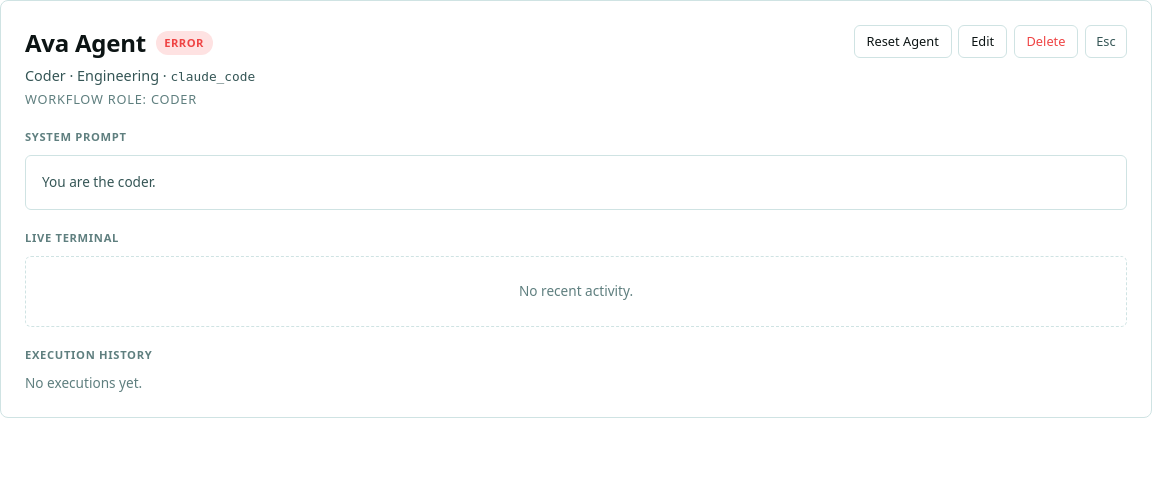
Test: EmployeeDetail stop and reset actions › shows a visible error when reset conflicts
Step 1. Click the button "Reset Agent" → x=903, y=41, box 854,25 -> 952,58
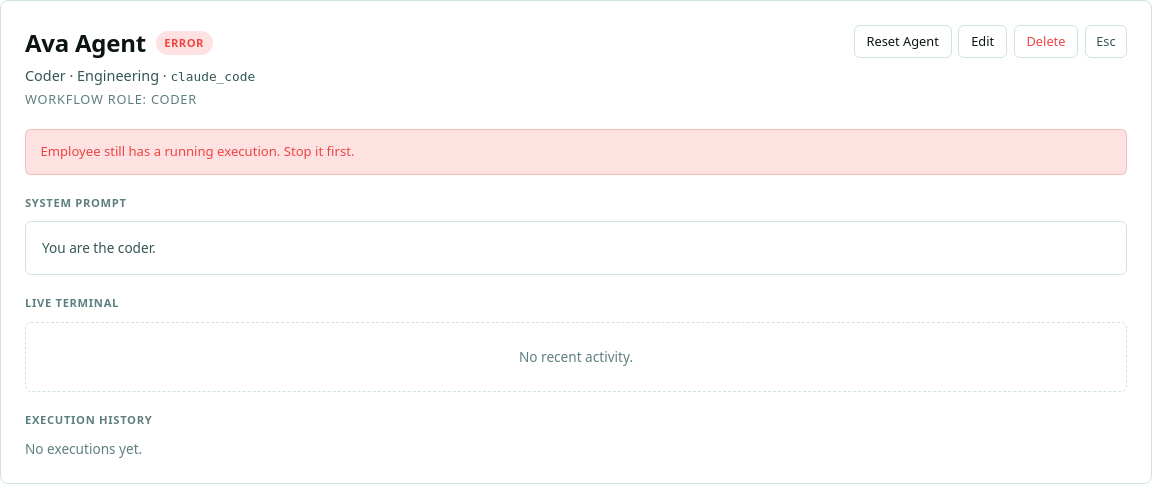
Expected: the message reads "Employee still has a running execution. Stop it first.", 40,142 -> 354,160
